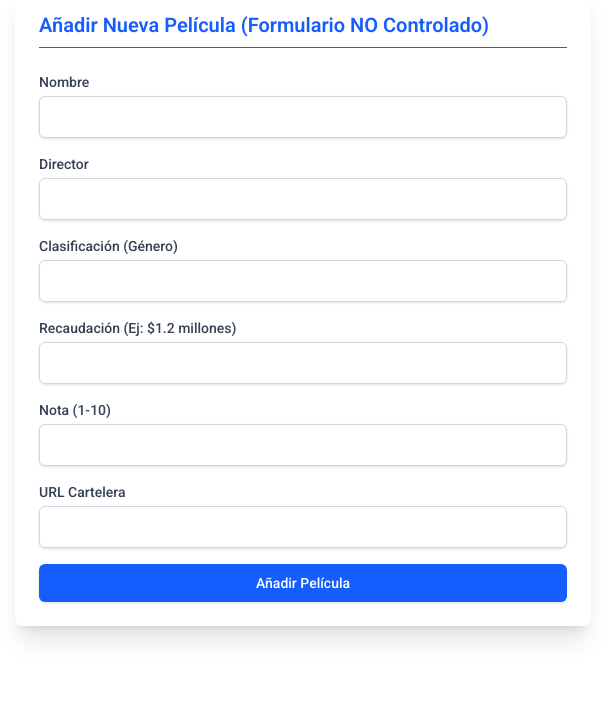
Test: Actividad 10 — Formulario NO controlado › valida solo al enviar (no mientras escribes)
The width and height of the screenshot is (607, 707).
Note: Escribo algo (dato distinto)
Type "Interstellar" into the field labelled "Nombre" at [303, 117], box x1=39 y1=96 x2=567 y2=138
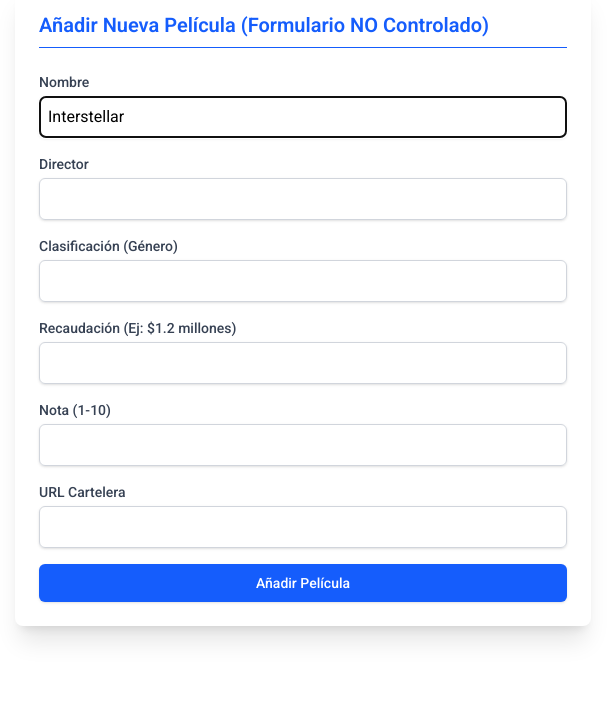
Check: the text "la url del cartel es obligatoria" is not shown
Click the button "Añadir Película" at [303, 583], box x1=39 y1=564 x2=567 y2=602
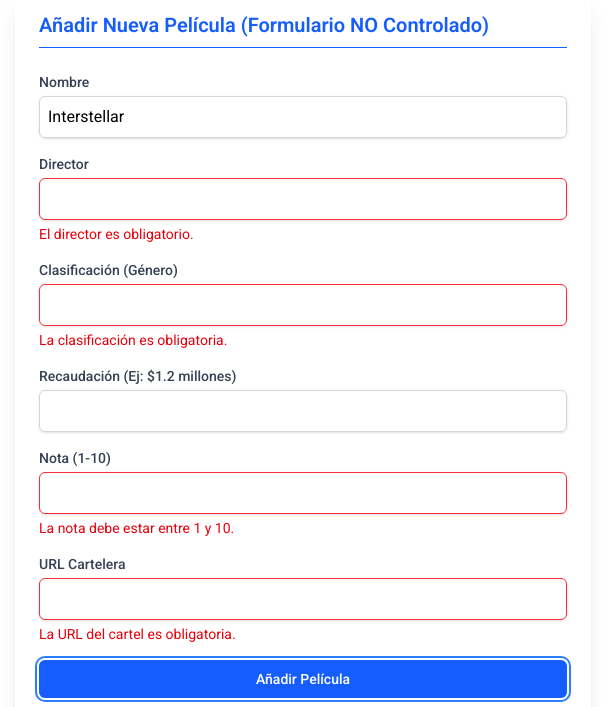
Check: the text "La URL del cartel es obligatoria." is shown, box x1=39 y1=626 x2=236 y2=642
